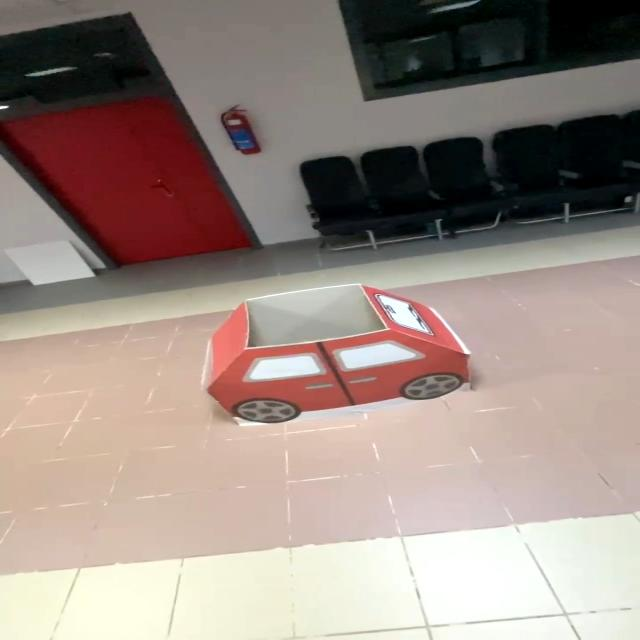red_car: (167, 262, 515, 459)
